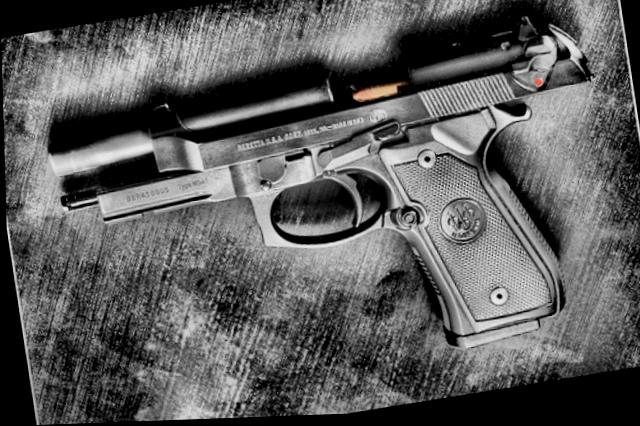pistol: (33, 22, 630, 420)
